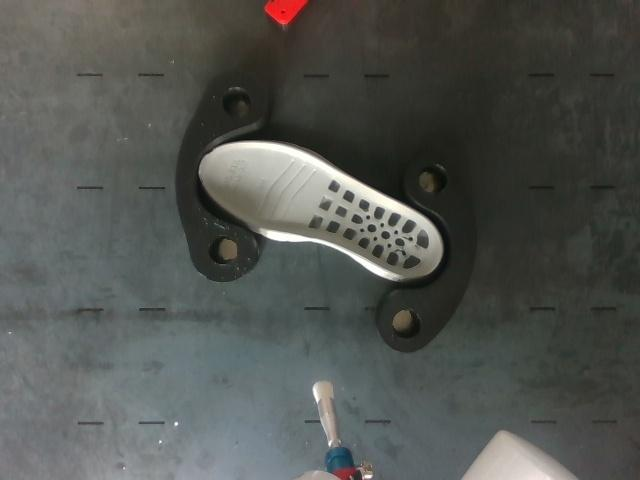shoes: (200, 143, 442, 278)
